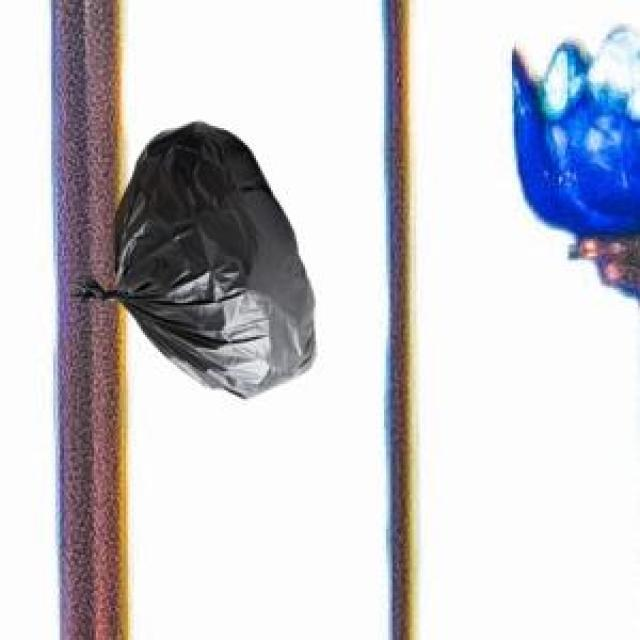Vinyl: (78, 121, 314, 397)
